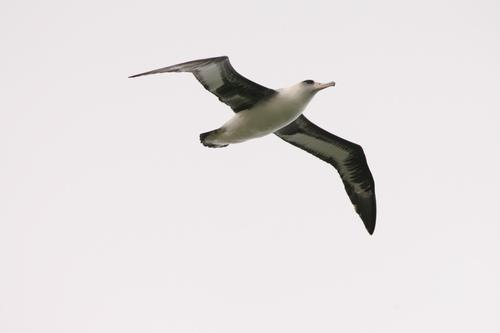002.Laysan_Albatross: (127, 56, 378, 236)
